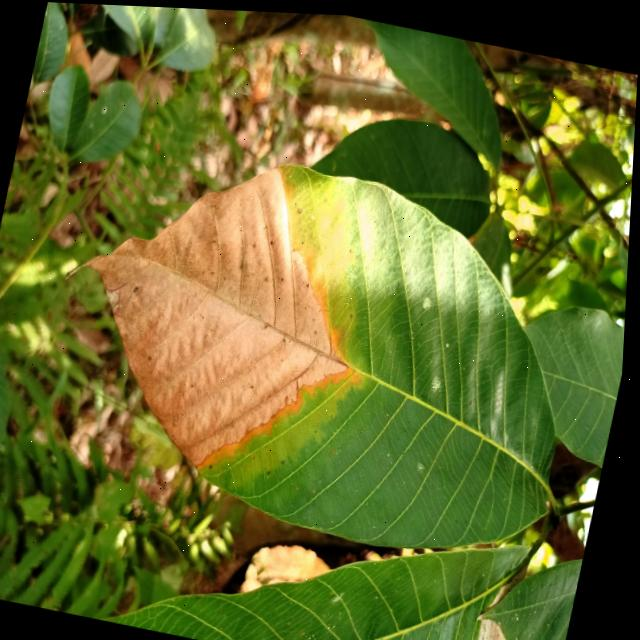Leaf-Blight: (35, 129, 390, 492)
